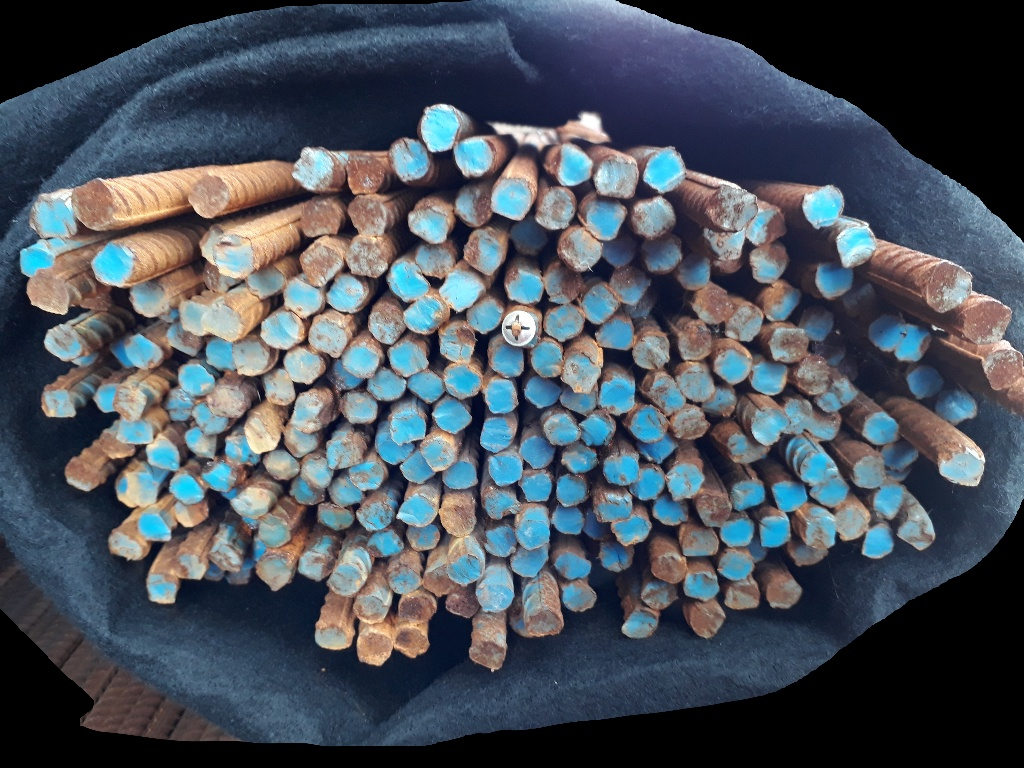dipstick: (922, 259, 973, 313), (707, 187, 758, 230), (963, 300, 1012, 344), (72, 177, 115, 227), (640, 371, 686, 416), (643, 148, 687, 194), (291, 147, 336, 191), (594, 157, 638, 201), (28, 270, 72, 314), (344, 235, 390, 277), (940, 445, 984, 488), (558, 227, 601, 271), (419, 108, 461, 153), (300, 243, 345, 284), (31, 197, 76, 238), (463, 229, 503, 275), (438, 271, 485, 310), (388, 258, 431, 300), (803, 184, 844, 228), (389, 137, 429, 182), (213, 232, 253, 277), (188, 175, 230, 217), (453, 184, 494, 227), (306, 315, 346, 359), (551, 145, 592, 187), (559, 353, 601, 394), (325, 273, 367, 314), (632, 198, 675, 238), (259, 308, 302, 348), (346, 150, 384, 195), (837, 226, 877, 268), (300, 197, 342, 237), (199, 302, 241, 342), (91, 243, 131, 285), (581, 283, 620, 326), (349, 194, 388, 237), (413, 241, 457, 279), (485, 336, 525, 377), (609, 267, 651, 306), (408, 206, 451, 244), (815, 259, 855, 299), (984, 348, 1023, 389), (545, 262, 584, 303), (492, 178, 531, 219), (761, 283, 803, 321), (127, 280, 169, 318), (114, 473, 159, 508), (664, 463, 705, 501), (368, 301, 406, 342), (388, 339, 429, 377), (402, 296, 444, 333), (534, 191, 573, 230), (692, 287, 733, 324), (377, 421, 414, 462), (935, 390, 977, 426), (508, 220, 547, 258), (284, 347, 323, 385), (231, 338, 269, 377), (694, 491, 734, 528), (543, 305, 583, 342), (748, 245, 786, 283), (45, 324, 83, 362), (723, 306, 762, 343), (504, 268, 543, 305), (400, 448, 439, 485), (288, 395, 327, 432), (747, 209, 787, 245), (677, 320, 713, 360), (705, 225, 747, 259), (206, 385, 248, 419), (675, 254, 712, 292), (455, 139, 492, 177), (356, 630, 394, 667), (867, 315, 906, 351), (629, 409, 669, 444), (145, 432, 180, 472), (504, 309, 541, 346), (751, 407, 787, 445), (897, 323, 932, 362), (439, 326, 478, 361), (245, 265, 284, 300), (896, 516, 936, 550), (432, 400, 472, 434), (366, 367, 407, 400), (798, 305, 834, 342), (483, 377, 519, 414), (479, 416, 515, 453), (906, 365, 944, 400), (769, 328, 807, 363), (817, 378, 856, 412), (438, 504, 477, 538), (342, 344, 381, 378), (262, 367, 296, 406), (177, 363, 217, 396), (713, 349, 749, 385), (690, 602, 726, 638), (599, 378, 635, 414), (127, 333, 163, 369), (805, 405, 842, 440), (651, 492, 688, 527), (595, 316, 632, 351), (465, 298, 502, 333), (631, 334, 669, 368), (407, 371, 445, 405), (244, 415, 277, 454), (797, 354, 829, 394), (388, 413, 428, 445), (834, 506, 869, 542), (771, 480, 808, 514), (443, 364, 480, 398), (256, 557, 293, 591), (643, 239, 681, 272), (541, 413, 579, 446), (669, 407, 708, 439), (611, 514, 650, 546), (593, 493, 632, 525), (444, 553, 483, 585), (561, 443, 601, 474), (397, 495, 437, 526), (727, 434, 771, 462), (357, 496, 393, 530), (327, 473, 363, 507), (751, 361, 788, 394), (677, 368, 715, 400), (399, 590, 437, 622), (316, 501, 355, 532), (482, 524, 517, 558), (112, 386, 147, 420), (801, 453, 837, 486), (301, 452, 334, 488), (165, 322, 201, 355), (780, 397, 812, 434), (642, 578, 679, 610), (627, 468, 664, 500), (560, 581, 597, 613), (476, 582, 513, 614), (262, 449, 299, 481), (190, 400, 227, 432), (680, 527, 718, 558), (787, 538, 829, 566), (682, 572, 721, 602), (392, 628, 431, 658), (231, 489, 270, 519), (554, 472, 588, 506), (419, 437, 453, 471), (110, 528, 144, 562), (530, 341, 563, 376), (282, 423, 317, 456), (729, 480, 765, 512), (329, 358, 365, 390), (850, 456, 887, 487), (523, 377, 560, 408), (326, 438, 363, 469), (19, 245, 56, 276), (862, 415, 900, 445), (811, 477, 849, 507), (871, 483, 904, 517), (551, 502, 584, 536), (489, 452, 522, 486), (161, 388, 195, 421), (803, 514, 835, 549), (349, 460, 384, 492), (599, 540, 635, 571), (341, 392, 377, 423), (553, 552, 591, 581), (510, 548, 548, 577), (520, 435, 553, 468), (185, 425, 218, 458), (601, 236, 635, 268), (205, 338, 237, 372), (65, 460, 100, 491), (636, 435, 676, 462), (578, 416, 614, 446), (469, 641, 505, 671), (143, 574, 179, 604), (172, 498, 208, 528), (766, 581, 803, 610), (526, 607, 563, 636), (367, 531, 405, 559), (757, 515, 790, 547), (652, 554, 686, 585), (442, 461, 478, 490), (703, 386, 736, 417), (515, 518, 548, 549), (329, 565, 362, 596), (291, 475, 325, 505), (723, 582, 759, 610), (39, 391, 75, 419), (621, 611, 658, 638), (560, 386, 597, 413), (200, 224, 223, 267), (881, 443, 919, 469), (258, 517, 292, 546), (425, 567, 460, 595), (137, 513, 172, 541), (201, 461, 236, 489), (179, 299, 207, 334), (719, 553, 755, 580), (93, 383, 123, 415), (862, 528, 895, 557), (605, 456, 638, 485), (483, 490, 516, 519), (298, 551, 331, 580), (584, 509, 612, 543), (353, 595, 387, 623), (101, 430, 135, 458), (520, 471, 552, 500), (116, 419, 153, 444), (720, 518, 753, 546), (209, 543, 243, 570), (170, 475, 204, 502), (387, 568, 423, 593), (445, 590, 476, 619), (172, 554, 206, 580), (315, 624, 350, 649), (510, 597, 531, 637), (406, 526, 441, 550), (622, 295, 652, 319), (714, 250, 746, 272), (110, 339, 135, 366), (744, 537, 767, 560), (73, 354, 99, 366)
